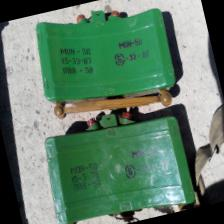MOH-50: (34, 100, 202, 224), (24, 0, 184, 124)
